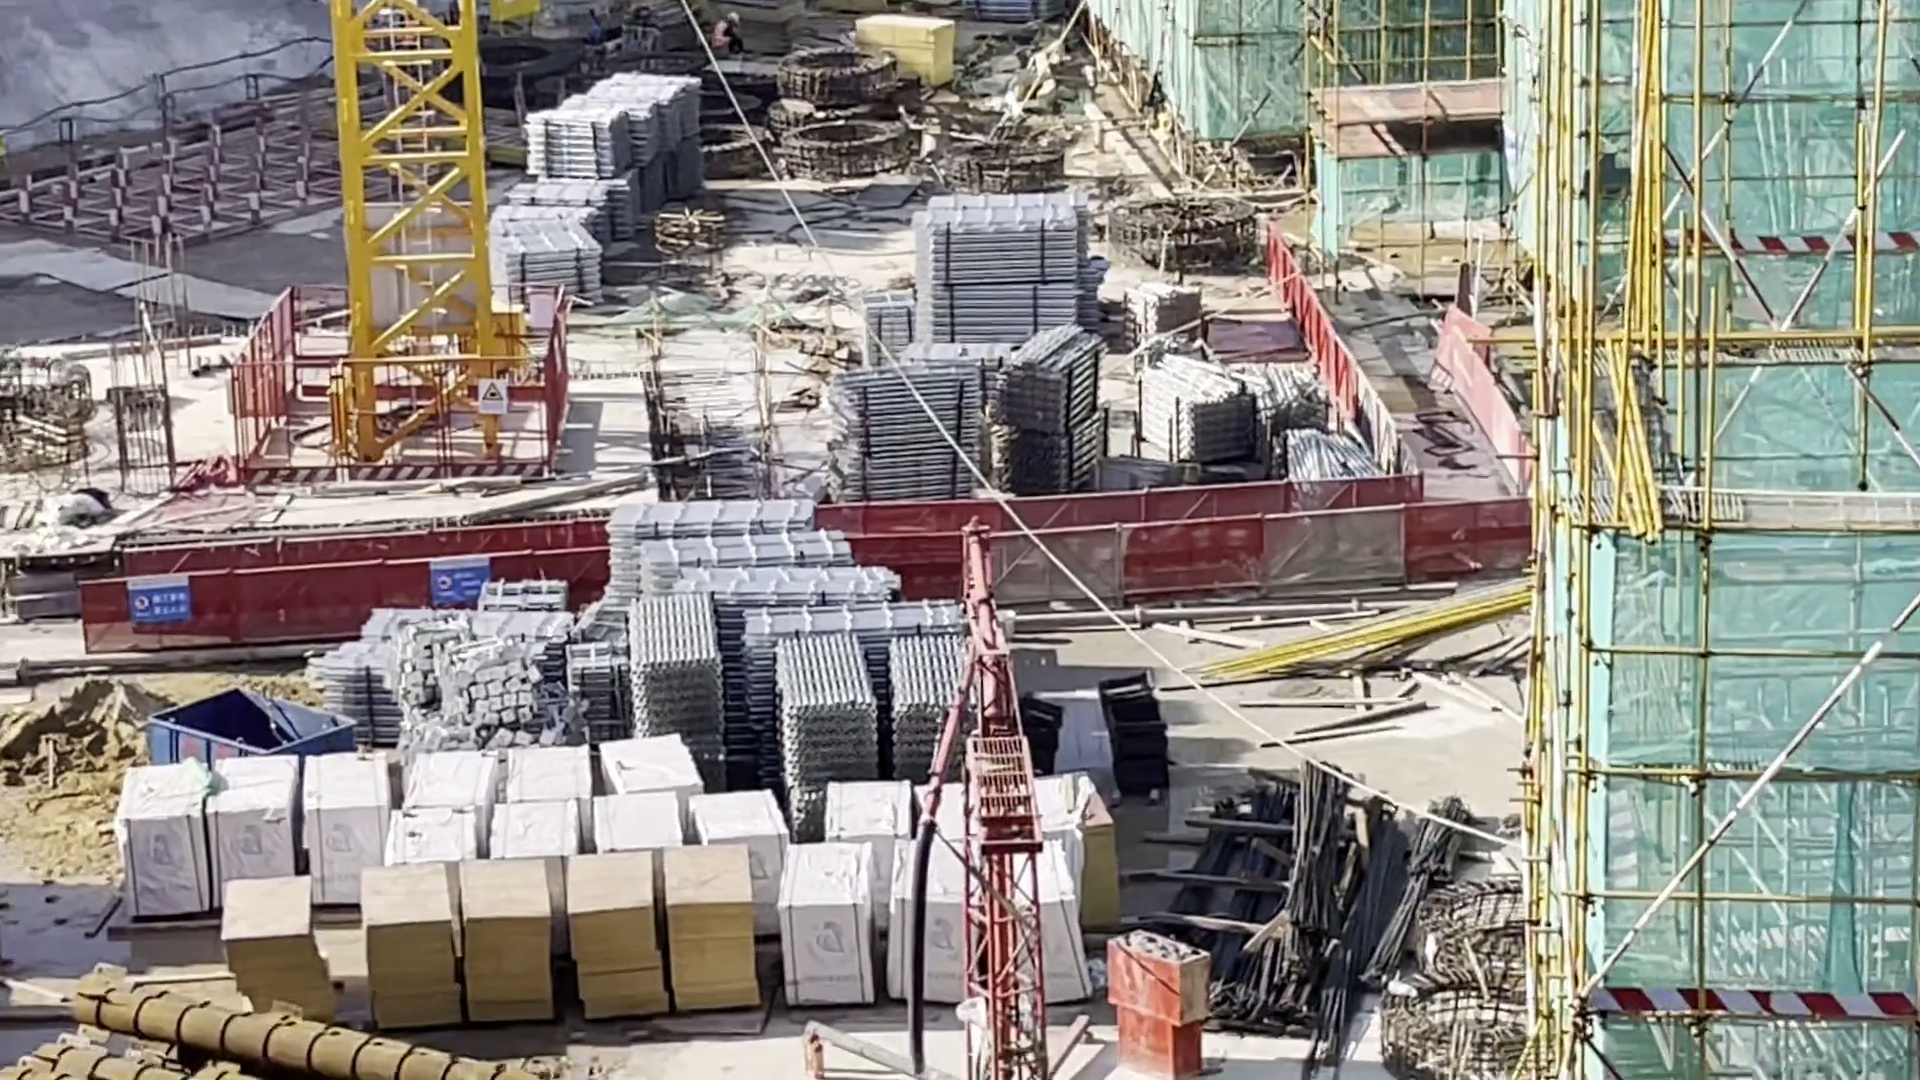board: (658, 861, 757, 1011), (569, 861, 665, 1012), (241, 873, 336, 1009), (473, 868, 545, 1029), (376, 872, 459, 1007), (871, 19, 955, 87)
fence: (84, 560, 606, 637), (1277, 245, 1439, 472), (905, 529, 1518, 586), (167, 521, 602, 561), (870, 481, 1437, 506)
helmet: (726, 11, 741, 22)
hopper: (163, 696, 336, 783)
person: (711, 8, 747, 67)
rebar: (1326, 828, 1398, 1028), (1388, 799, 1467, 958), (1153, 807, 1241, 923), (1218, 793, 1271, 983), (1291, 761, 1334, 952)
scaffold: (915, 215, 1089, 285), (1148, 363, 1261, 469), (905, 645, 1000, 759), (687, 556, 865, 613), (773, 651, 857, 763), (605, 499, 828, 540), (1011, 336, 1103, 435), (639, 603, 729, 700), (941, 291, 1105, 343), (515, 103, 629, 175), (839, 452, 993, 505), (315, 667, 404, 757), (839, 380, 984, 432), (497, 240, 604, 305), (636, 536, 853, 567), (563, 92, 668, 143), (768, 612, 967, 637), (1024, 427, 1113, 483), (567, 647, 624, 721), (519, 176, 619, 208), (500, 208, 587, 240)
slogan: (432, 558, 495, 607), (127, 585, 192, 623), (483, 380, 511, 417)
vest: (712, 21, 729, 46)
